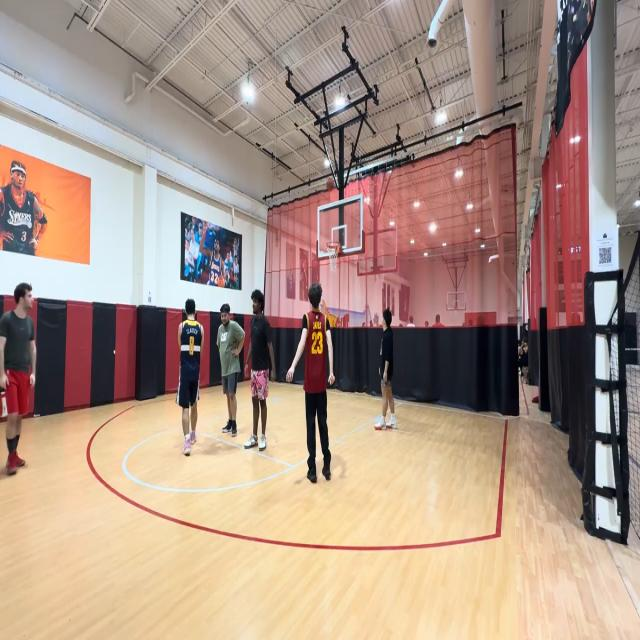Basketball: (326, 177, 335, 191)
Basketball Rim: (326, 241, 340, 271)
Player: (285, 284, 339, 488), (0, 282, 39, 480), (244, 289, 276, 460), (178, 296, 202, 462), (216, 302, 244, 443), (374, 308, 401, 434)
